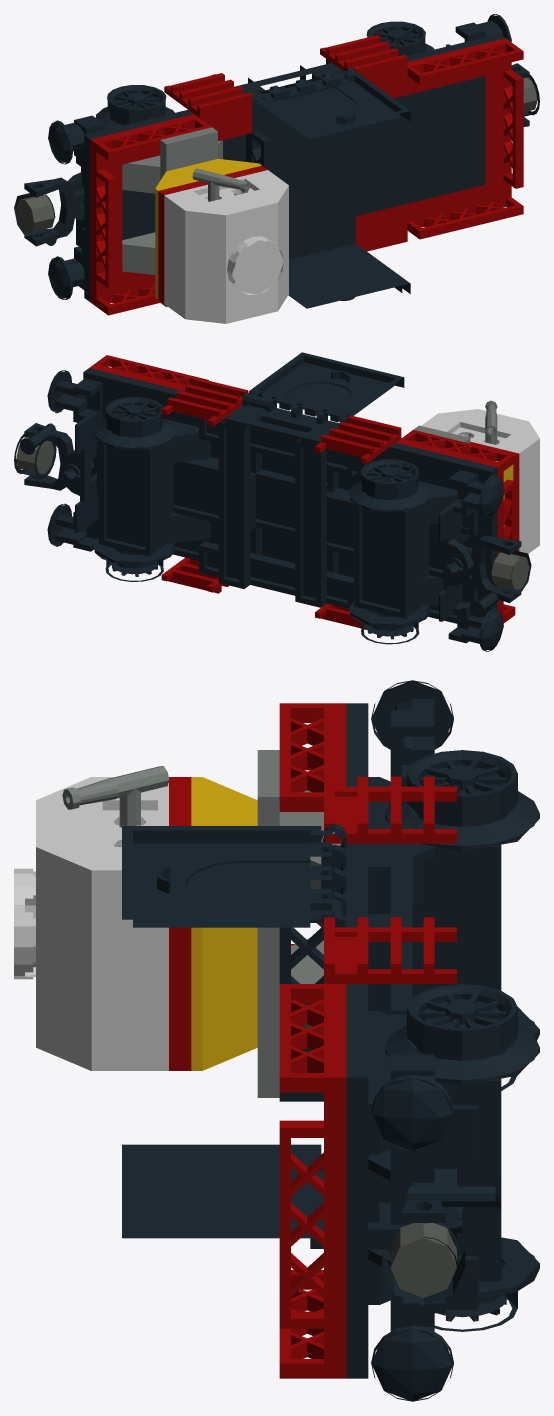
File: wagon-2.glb
The picture shows the model from 3 angles, top to bottom: view 1: azimuth 30°, elevation 25°; view 2: azimuth 150°, elevation 25°; view 3: azimuth 270°, elevation 25°; orthographic projection. The views are drawn at different scales.
Bounding box in the file's own units: 155 × 54.4 × 76.
